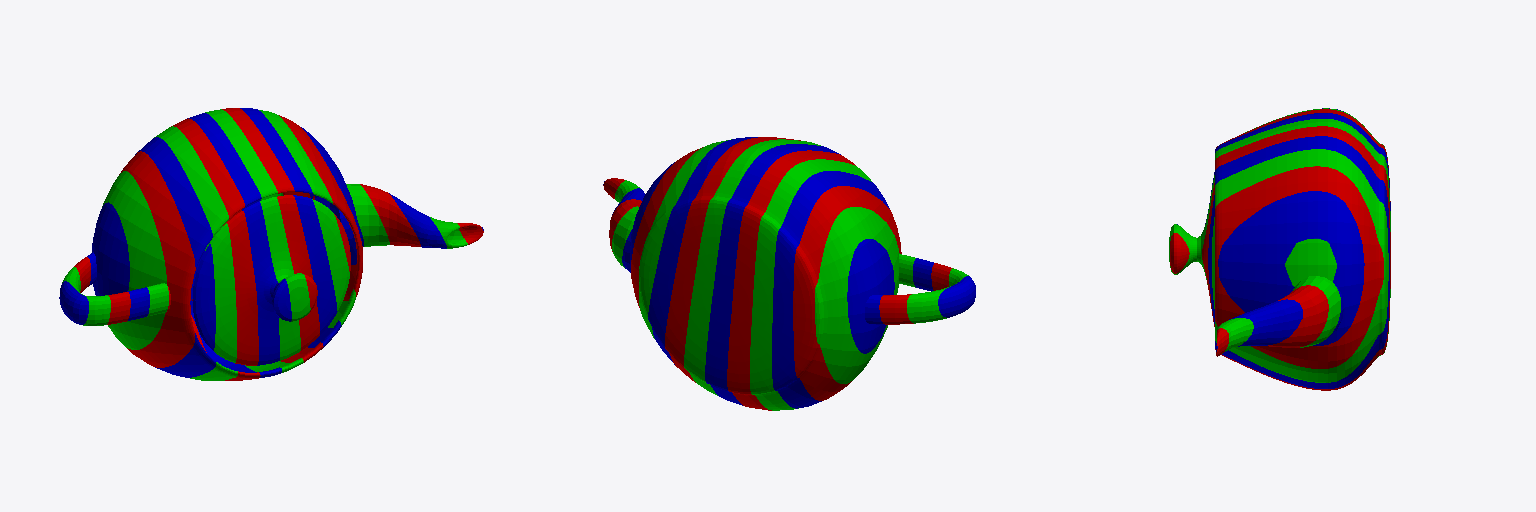
The picture shows the model from 3 angles: view 1: azimuth 30°, elevation 25°; view 2: azimuth 150°, elevation 25°; view 3: azimuth 270°, elevation 25°; orthographic projection.
Parts seen in each view (by area): view 1: Teapot001; view 2: Teapot001; view 3: Teapot001.
Part boxes in pixels (left/top/right/bottom): Teapot001: left=59, top=108, right=483, bottom=380; Teapot001: left=603, top=137, right=975, bottom=410; Teapot001: left=1169, top=108, right=1390, bottom=390.
Bounding box in the file's own units: 32.17 × 20 × 15.75.
1 materials, 1 textured.